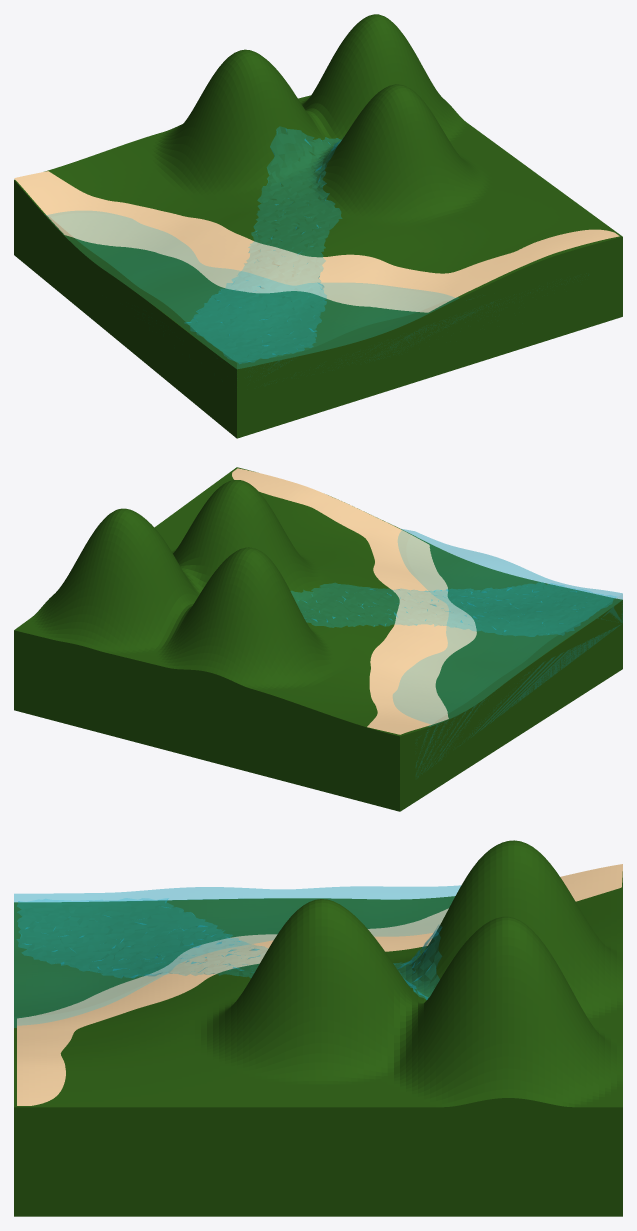
3 renders of one model, top to bottom at view 1: azimuth 30°, elevation 25°; view 2: azimuth 150°, elevation 25°; view 3: azimuth 270°, elevation 25°, orthographic. The views are drawn at different scales.
Parts seen in each view (by area): view 1: 立方体.002, 立方体.001, 立方体.003, 立方体.005; view 2: 立方体.002, 立方体.001, 立方体.003, 立方体.005; view 3: 立方体.002, 立方体.001, 立方体.005, 立方体.003.
Boxes of the visible parts, x1=… form: 立方体.002: x1=14, y1=14, x2=622, y2=438; 立方体.001: x1=44, y1=211, x2=458, y2=368; 立方体.003: x1=14, y1=171, x2=619, y2=312; 立方体.005: x1=185, y1=126, x2=343, y2=363; 立方体.002: x1=14, y1=467, x2=622, y2=811; 立方体.001: x1=393, y1=529, x2=622, y2=765; 立方体.003: x1=232, y1=468, x2=476, y2=734; 立方体.005: x1=291, y1=583, x2=615, y2=636; 立方体.002: x1=14, y1=840, x2=622, y2=1216; 立方体.001: x1=14, y1=885, x2=460, y2=1027; 立方体.005: x1=17, y1=898, x2=441, y2=999; 立方体.003: x1=17, y1=864, x2=622, y2=1105.
Bounding box in the file's own units: 20.21 × 10.65 × 20.2.
